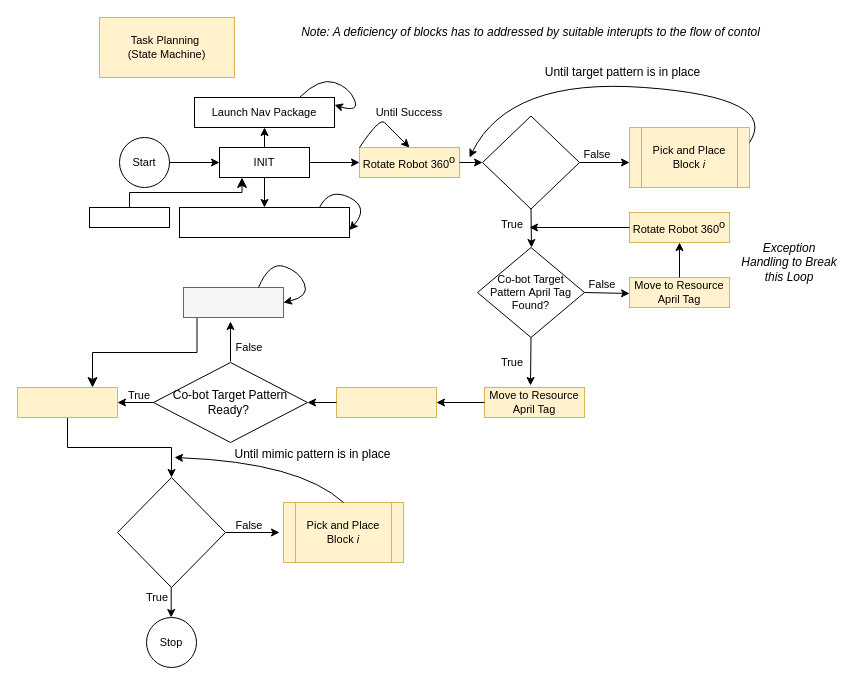
Image size: 857x685. Some labels were removed from this diagram. Each missing label, with the box of its shape:
Launch Custom Modules: (178, 206, 350, 238)
Mimic Pattern Built?: (116, 476, 226, 588)
Rotate Robot towards April Tag: (336, 386, 436, 418)
Target Pattern: (88, 206, 170, 228)
Target Pattern Built?: (482, 115, 580, 209)
Update Mimic Pattern: (16, 386, 118, 418)
Wait Until Exit Condition: (182, 286, 284, 318)
